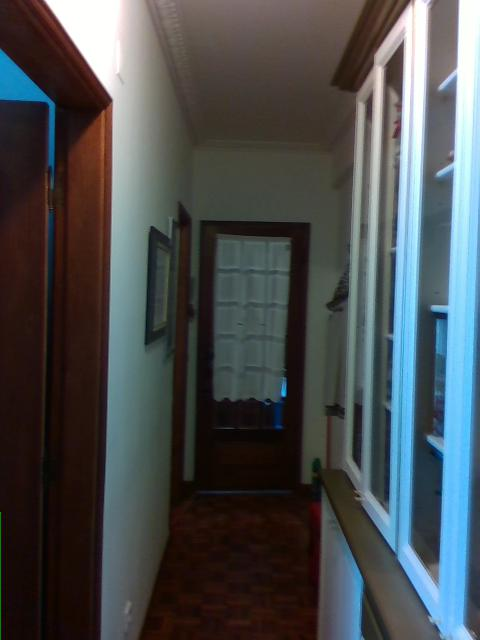door: (1, 2, 113, 640), (194, 220, 312, 487)
